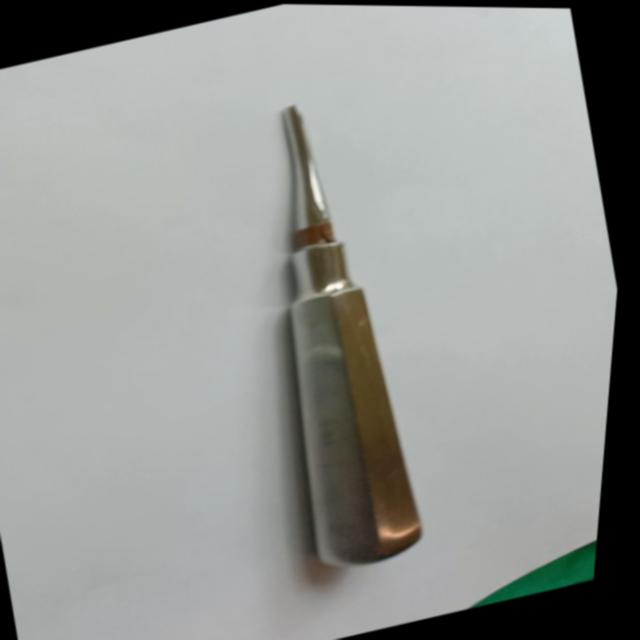Coupland1: (199, 77, 478, 580)
